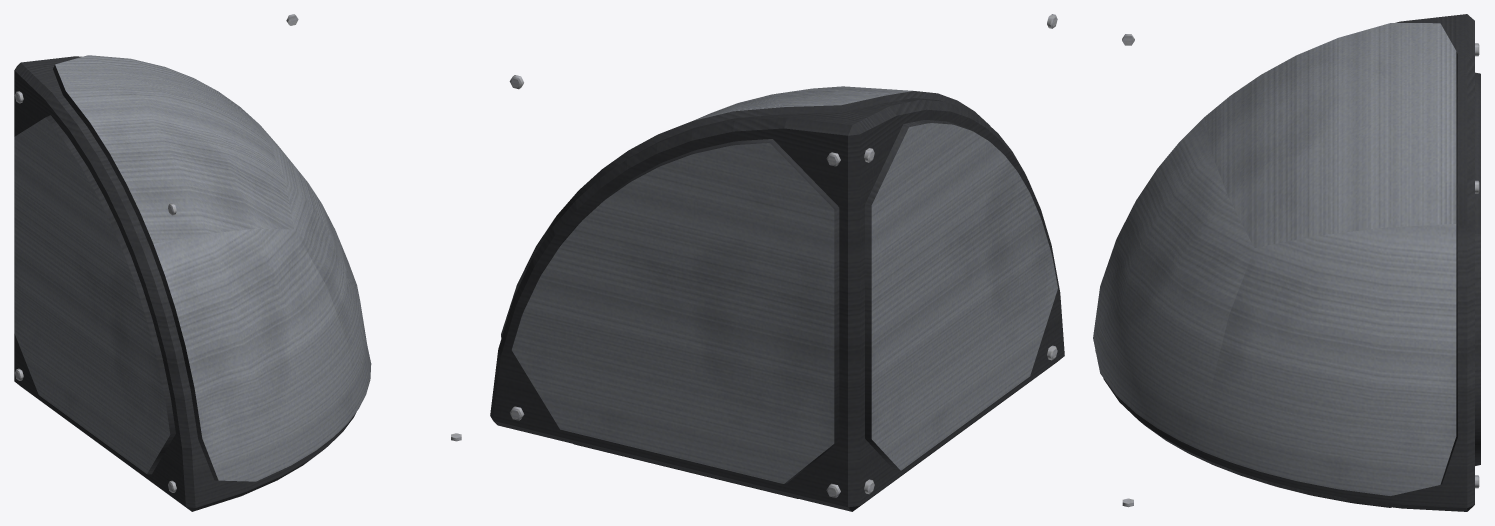
Rendered from R4B_RoundCorner.glb.
3 views of the same model, side by side, from view 1: azimuth 30°, elevation 25°; view 2: azimuth 150°, elevation 25°; view 3: azimuth 270°, elevation 25° (orthographic). The views are drawn at different scales.
Parts seen in each view (by area): view 1: R4B_RoundCorner; view 2: R4B_RoundCorner; view 3: R4B_RoundCorner.
Part boxes in pixels (box(x1,y1,x2,y2)): R4B_RoundCorner: box(14, 14, 461, 511); R4B_RoundCorner: box(490, 14, 1064, 511); R4B_RoundCorner: box(1093, 14, 1480, 511).
Bounding box in the file's own units: 0.5095 × 0.5095 × 0.5095.
3 materials, 3 textured.
